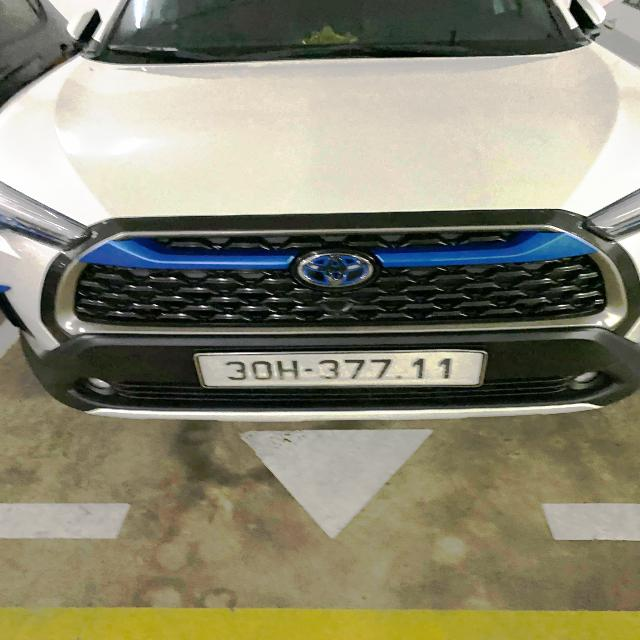license_plate: (199, 347, 490, 390)
